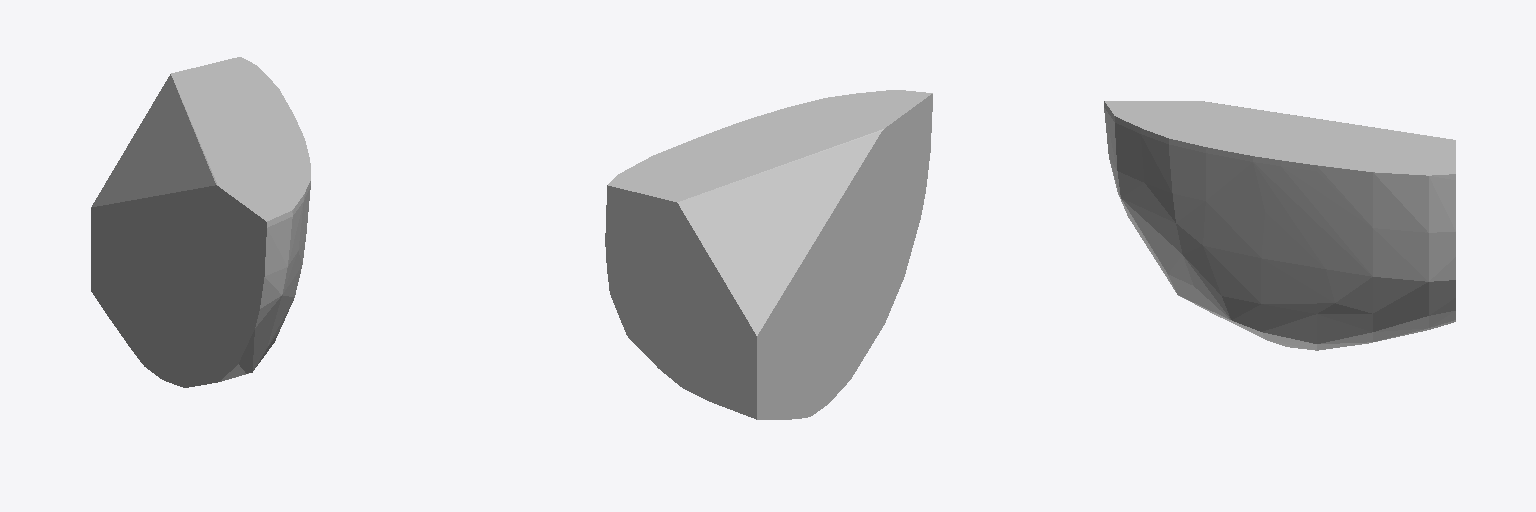
The model's file is phantom-elastrat_collision_43.obj.
The picture shows the model from 3 angles: view 1: azimuth 30°, elevation 25°; view 2: azimuth 150°, elevation 25°; view 3: azimuth 270°, elevation 25°; orthographic projection.
Size of the model in its own units: 0.0037 by 0.0054 by 0.0073.